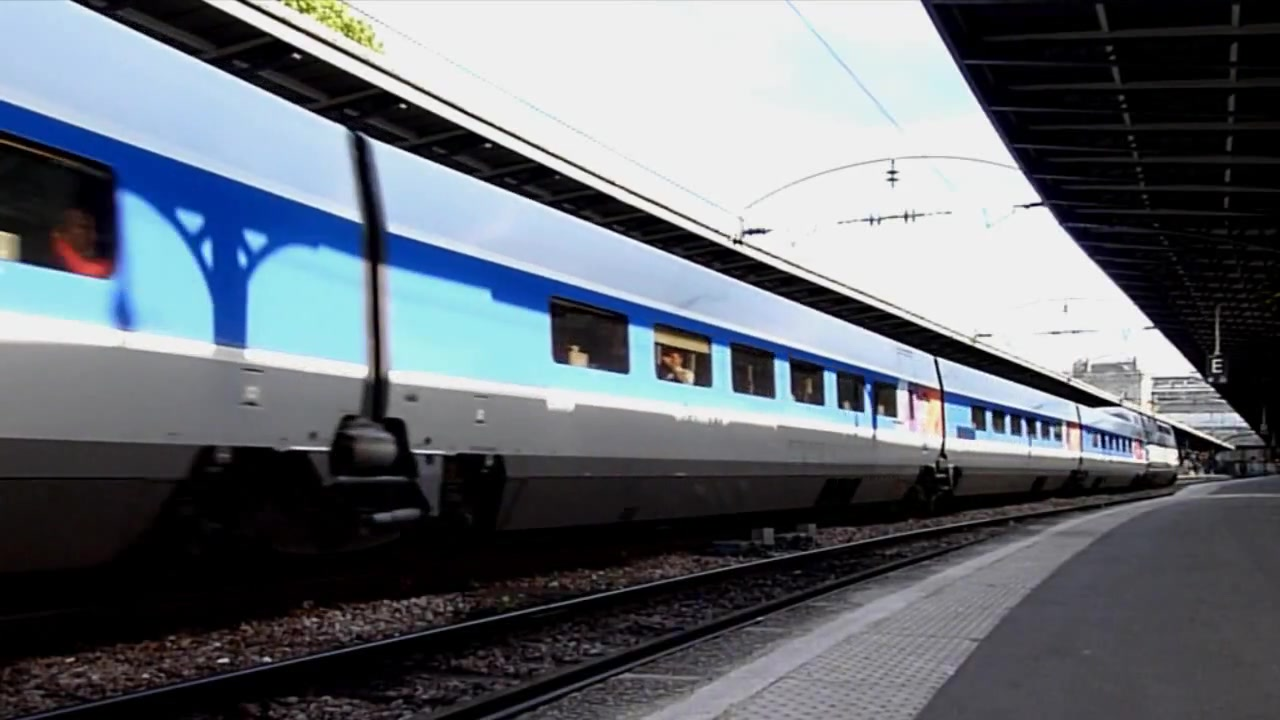train: (1, 1, 1183, 581)
